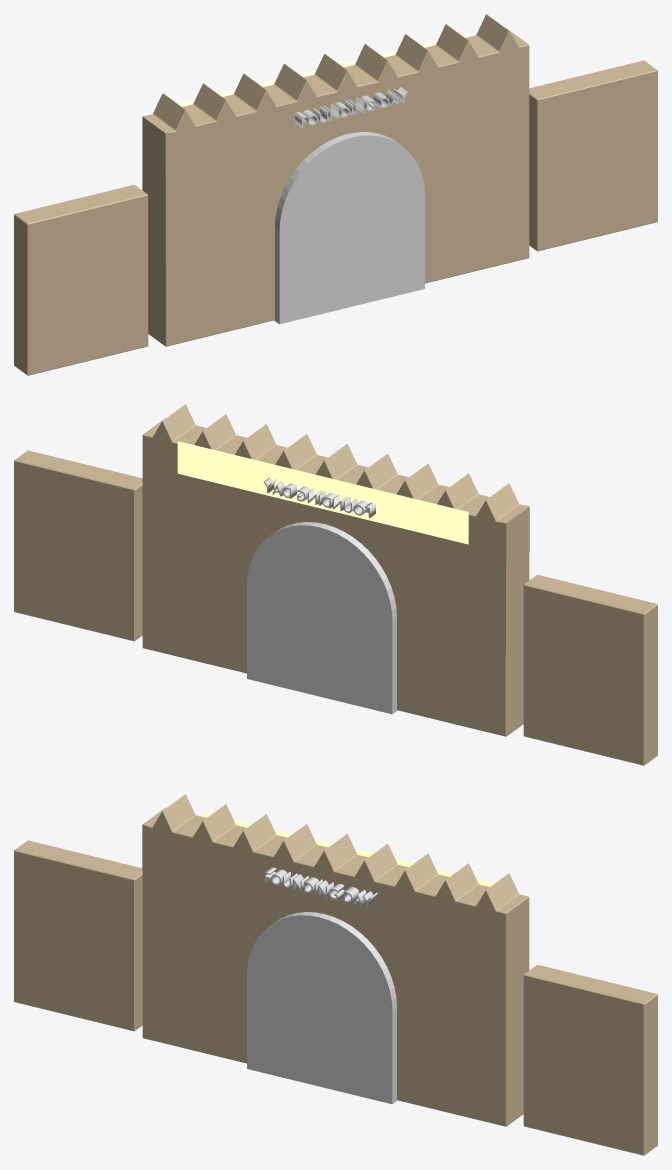
The model's file is live-gate.glb.
The picture shows the model from 3 angles, top to bottom: view 1: azimuth 30°, elevation 25°; view 2: azimuth 150°, elevation 25°; view 3: azimuth 330°, elevation 25°; orthographic projection.
Visible parts, largest first — view 1: Gate_Body, Gate_Opening_Cut, Wing_L, Wing_R, Headline_Cut, Headline_Backlight; view 2: Gate_Body, Gate_Opening_Cut, Wing_L, Wing_R, Headline_Backlight, Headline_Cut; view 3: Gate_Body, Gate_Opening_Cut, Wing_R, Wing_L, Headline_Cut, Headline_Backlight.
Boxes of the visible parts, bbox=[...] form: Gate_Body: bbox=[142, 14, 529, 346]; Gate_Opening_Cut: bbox=[274, 132, 424, 324]; Wing_L: bbox=[14, 184, 148, 375]; Wing_R: bbox=[529, 60, 657, 251]; Headline_Cut: bbox=[295, 87, 408, 127]; Headline_Backlight: bbox=[177, 32, 468, 106]; Gate_Body: bbox=[142, 404, 529, 736]; Gate_Opening_Cut: bbox=[247, 522, 397, 714]; Wing_L: bbox=[523, 574, 657, 765]; Wing_R: bbox=[14, 450, 142, 641]; Headline_Backlight: bbox=[177, 441, 468, 544]; Headline_Cut: bbox=[263, 478, 375, 517]; Gate_Body: bbox=[142, 794, 529, 1126]; Gate_Opening_Cut: bbox=[247, 912, 397, 1104]; Wing_R: bbox=[523, 964, 657, 1155]; Wing_L: bbox=[14, 840, 142, 1031]; Headline_Cut: bbox=[264, 867, 377, 907]; Headline_Backlight: bbox=[203, 812, 494, 886].
Bounding box in the file's own units: 15.6 × 5.5 × 1.6.
